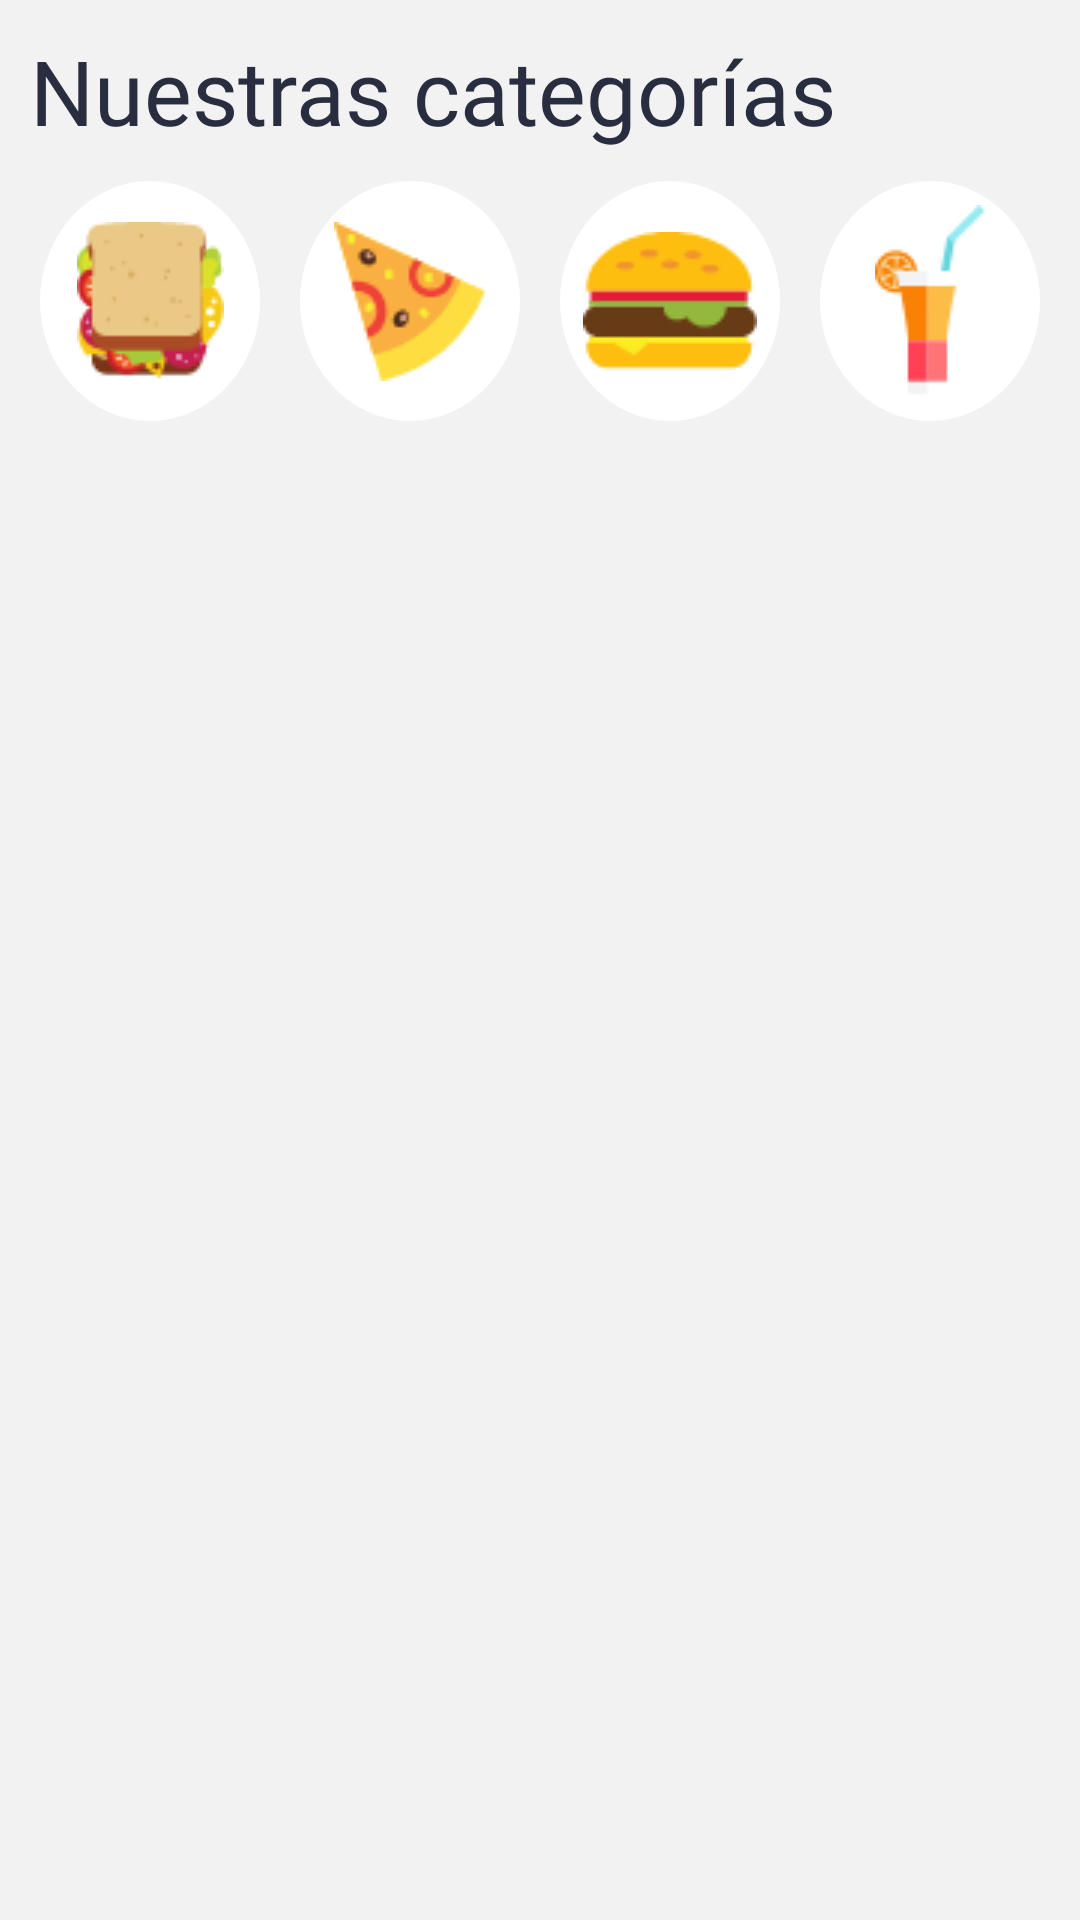

Named icons in this screenshot (1080px×1920px) and their bounding boxes, (x1, y1, x2, y2):
iburger: (583, 232, 757, 370)
idrink: (820, 181, 1040, 421)
ipizza: (334, 222, 485, 381)
isandwich: (77, 222, 224, 379)
